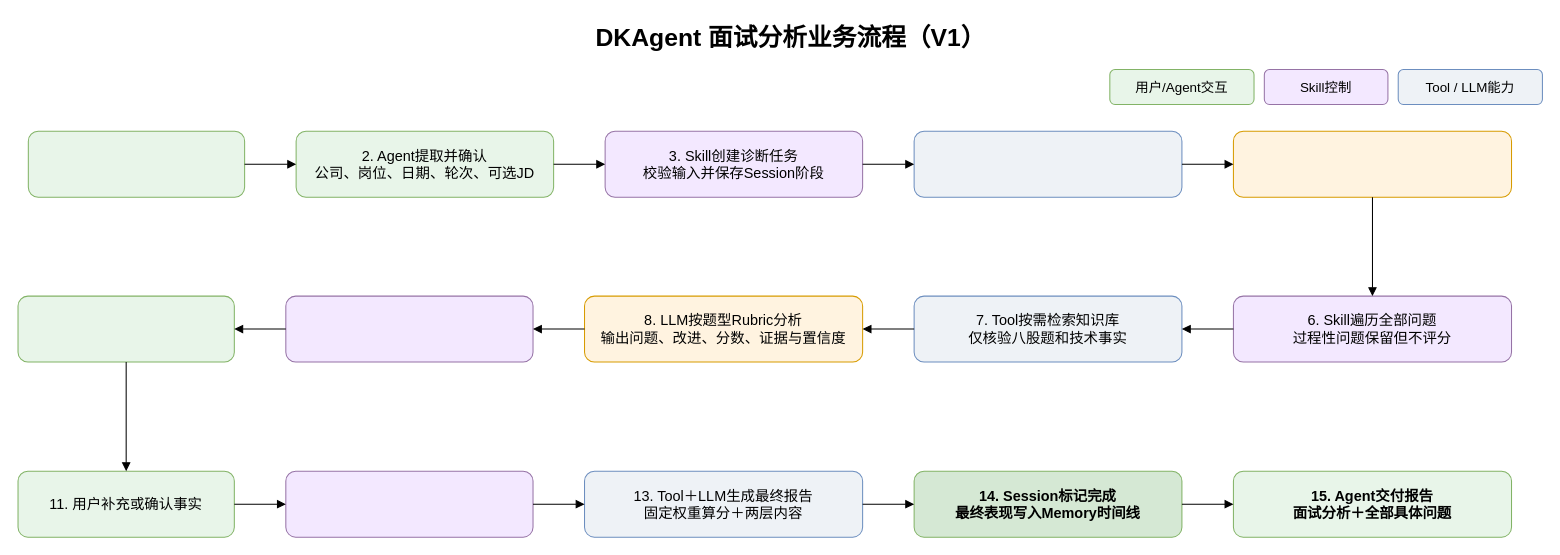
The diagram is 1560 pixels wide and 555 high, and some of its shapes have lost their labels. The shapes that lost their labels are listed below. From the top down, each one's centre as x and y in pixels, then its label:
At (136,163): "1. 用户提交文字稿路径".
At (1047,163): "4. Tool读取与预处理 保留原稿、错词Diff和表达痕迹".
At (1372,163): "5. LLM结构化文字稿 问题簇、全部问题、题型、项目事实".
At (125,328): "10. Agent集中询问 3～5个高影响事实".
At (409,328): "9. Skill汇总初步分析 保存检查点并暂停".
At (409,503): "12. Skill只重跑 受影响的问题".
